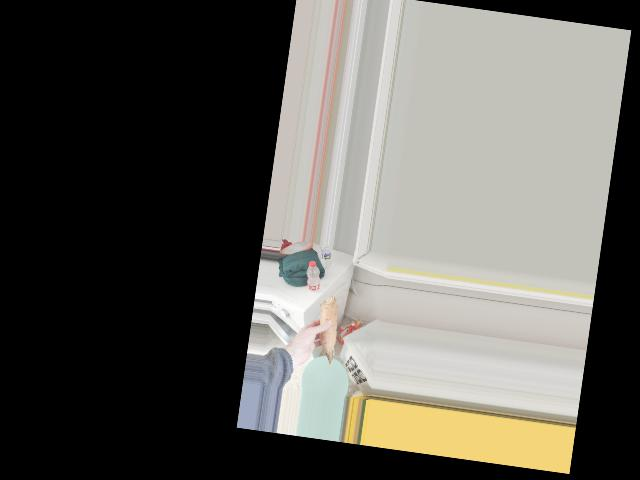sweet_potato: (316, 292, 340, 365)
